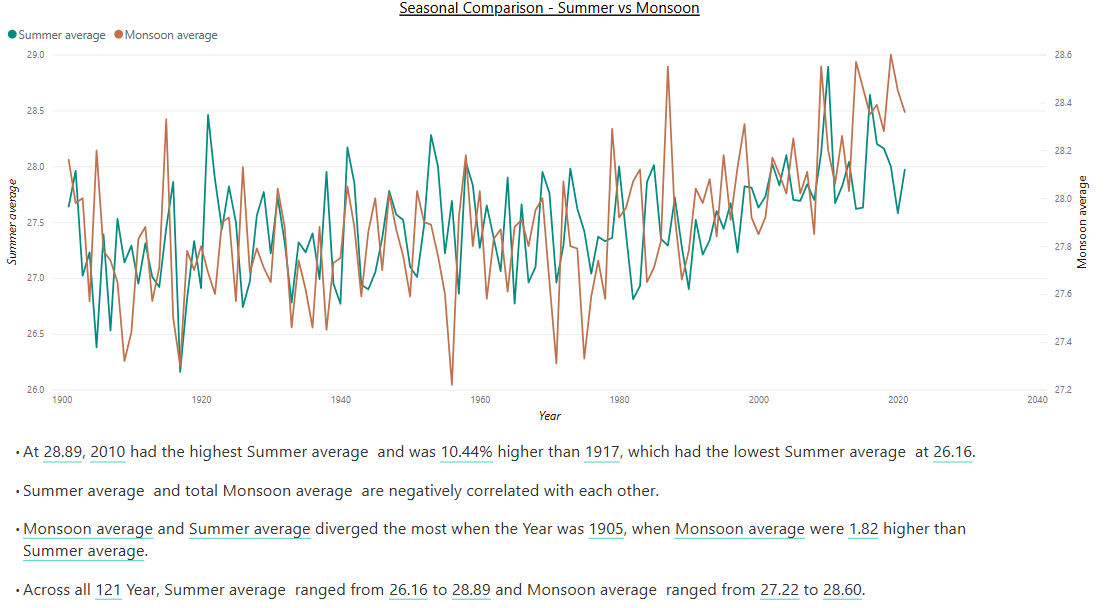

Layout of this report page (visuals, bound fields, positions):
{"tool":"powerbi","page":{"name":"Page 3","canvas":[1280,720],"ordinal":2},"visuals":[{"type":"lineChart","title":"Seasonal Comparison - Summer vs Monsoon","fields":{"Category":["climate_cleaned.YEAR"],"Y":["Avg(climate_cleaned.SUMMER_AVG)"],"Y2":["Avg(climate_cleaned.MONSOON_AVG)"]},"box":[10,0,1250,491.4],"z":0},{"type":"textbox","box":[10,501.4,1172.9,218.6],"z":1}]}

Visuals, with their boxes in screenshot pixels (x1, y1, x2, y2), scaled from the page's 1280x720 canvas onto the 1105x608 screenshot:
"Seasonal Comparison - Summer vs Monsoon" lineChart: box=[9, 0, 1088, 415]
textbox: box=[9, 423, 1021, 607]
